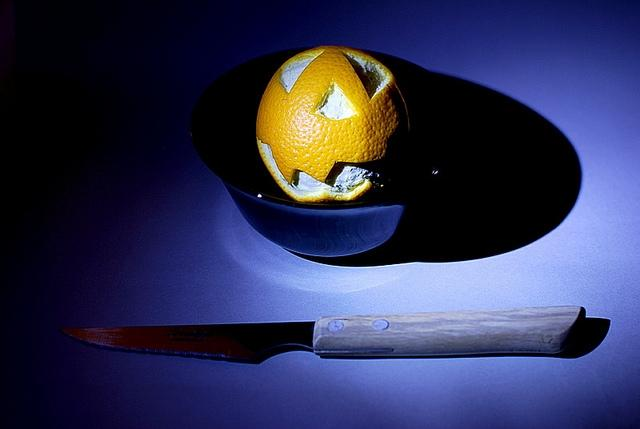orange: (255, 44, 410, 204)
